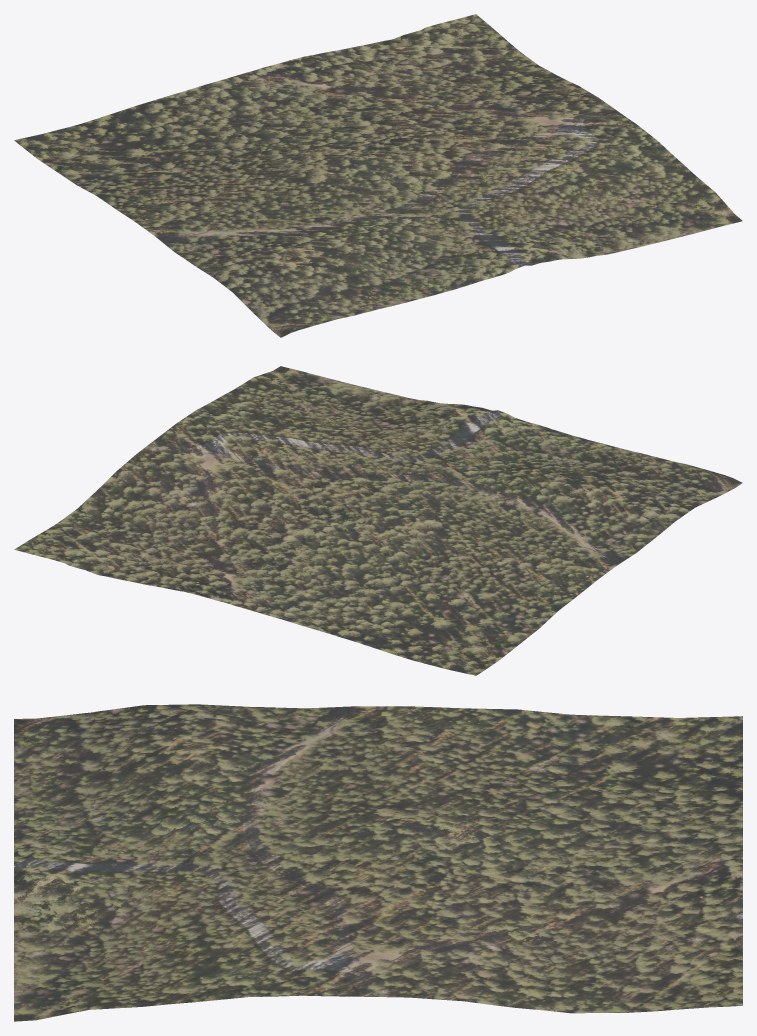
Rendered from CM_Terrain_24490049_6822660.fbx.
3 views of the same model, one above another, from view 1: azimuth 30°, elevation 25°; view 2: azimuth 150°, elevation 25°; view 3: azimuth 270°, elevation 25° (orthographic). The views are drawn at different scales.
Visible parts, largest first — view 1: CM_Terrain_24490049_6822660_LOD0; view 2: CM_Terrain_24490049_6822660_LOD0; view 3: CM_Terrain_24490049_6822660_LOD0.
Boxes of the visible parts, x1,y1,x2,y2 form: CM_Terrain_24490049_6822660_LOD0: (14,14,742,337); CM_Terrain_24490049_6822660_LOD0: (14,366,742,675); CM_Terrain_24490049_6822660_LOD0: (14,704,742,1021).
Size of what is drawn, in the model's own units: 205 by 9.74 by 205.
